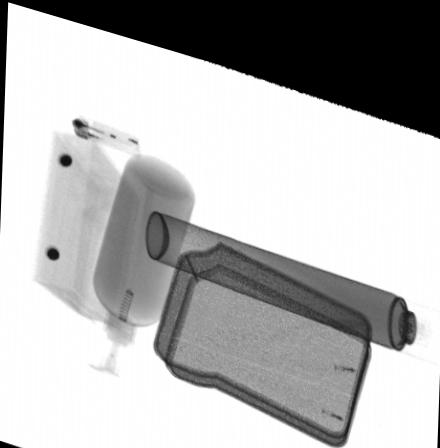Lighter: (70, 109, 140, 150)
Sprayer: (145, 201, 440, 340)
